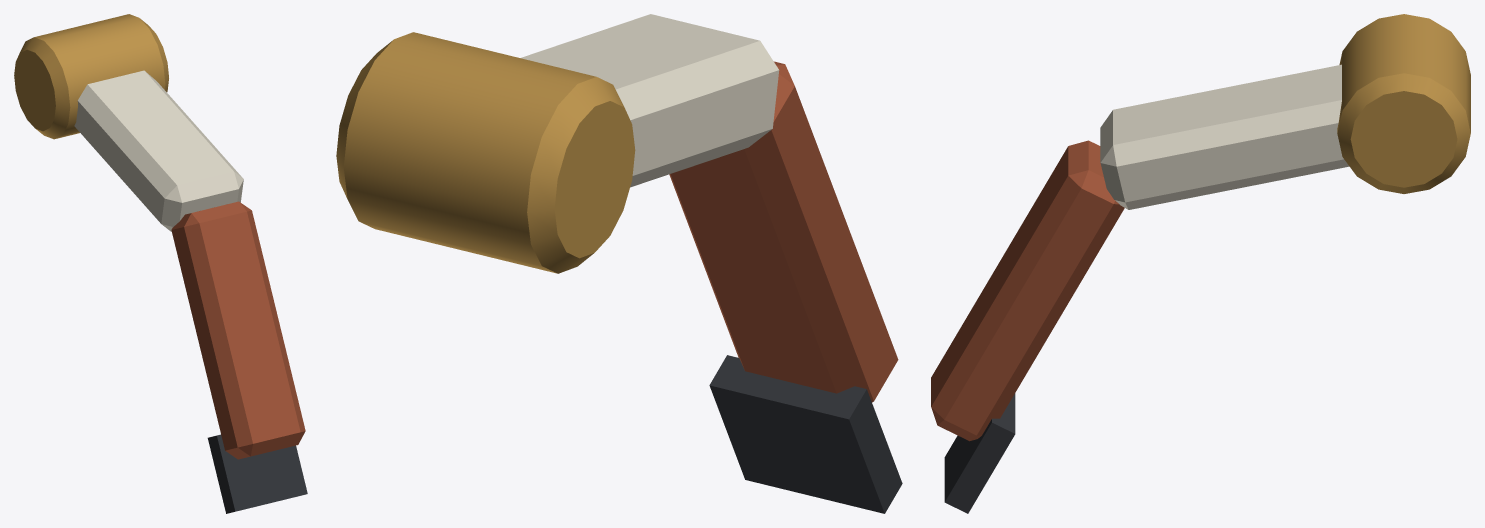
The model's file is rm2_claw_jaw_a.obj.
3 renders of one model, left to right at view 1: azimuth 30°, elevation 25°; view 2: azimuth 150°, elevation 25°; view 3: azimuth 270°, elevation 25°, orthographic. The views are drawn at different scales.
Parts seen in each view (by area): view 1: rm2_claw_jaw_a; view 2: rm2_claw_jaw_a; view 3: rm2_claw_jaw_a.
Boxes of the visible parts, x1,y1,x2,y2 form: rm2_claw_jaw_a: (14, 14, 307, 513); rm2_claw_jaw_a: (336, 14, 902, 513); rm2_claw_jaw_a: (931, 14, 1470, 513).
Size of the model in its own units: 0.05 by 0.1481 by 0.1617.
